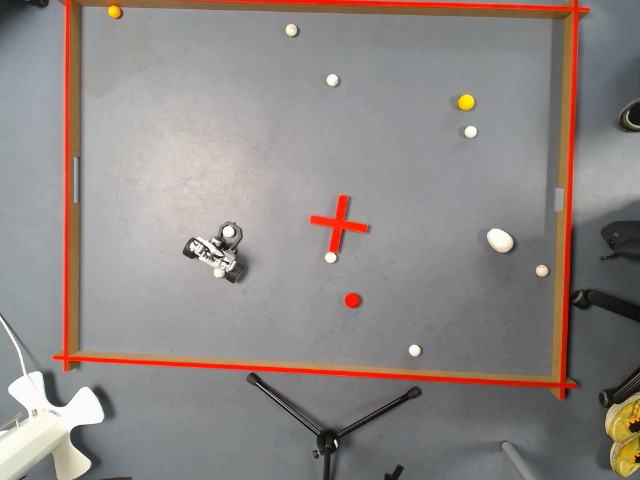big_goal: (41, 145, 97, 212)
cross: (286, 181, 380, 266)
egg: (473, 219, 521, 259)
orange: (444, 88, 487, 115)
robot: (162, 209, 263, 296)
small_goal: (539, 171, 581, 225)
wall: (35, 340, 586, 410), (537, 2, 598, 412), (37, 3, 91, 382), (276, 0, 606, 15)
white: (205, 214, 251, 244), (309, 242, 351, 269), (201, 262, 238, 287), (448, 121, 490, 143), (393, 339, 432, 362), (272, 16, 307, 41), (315, 70, 348, 92), (524, 260, 554, 282)
